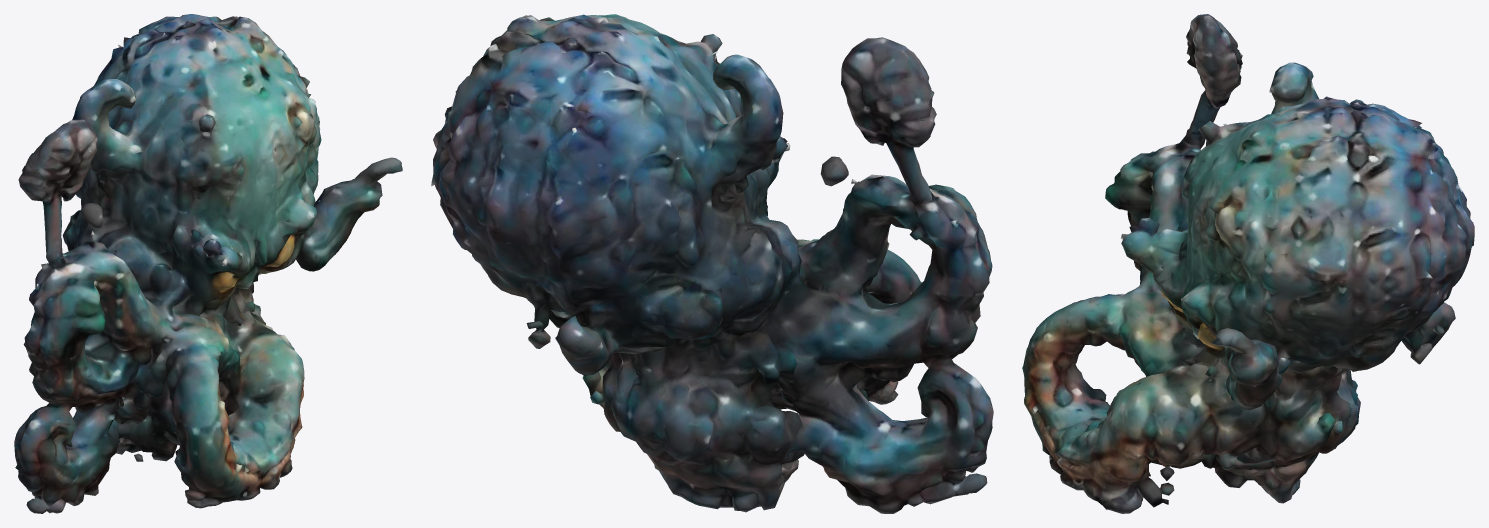
File: kraken.glb
3 renders of one model, left to right at view 1: azimuth 30°, elevation 25°; view 2: azimuth 150°, elevation 25°; view 3: azimuth 270°, elevation 25°, orthographic. The views are drawn at different scales.
Visible parts, largest first — view 1: world; view 2: world; view 3: world.
Boxes of the visible parts, x1,y1,x2,y2 form: world: (14,14,402,513); world: (431,14,993,513); world: (1022,14,1474,513).
Size of the model in its own units: 0.9619 by 0.8786 by 0.8354.
1 material, 1 textured.
